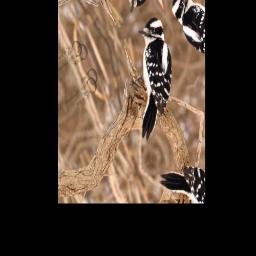Woodpecker: (108, 12, 194, 147)
